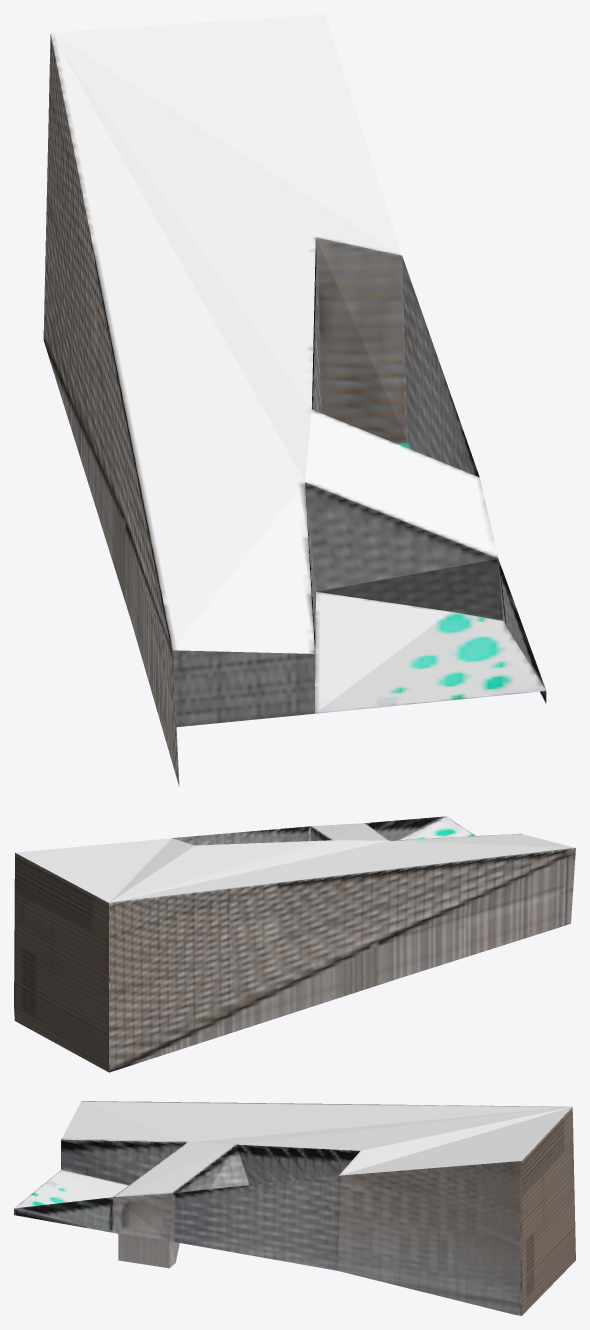
File: 403officesnew.glb
The picture shows the model from 3 angles, top to bottom: view 1: azimuth 30°, elevation 25°; view 2: azimuth 150°, elevation 25°; view 3: azimuth 270°, elevation 25°; orthographic projection. The views are drawn at different scales.
Visible parts, largest first — view 1: 403offices.001; view 2: 403offices.001; view 3: 403offices.001.
Boxes of the visible parts, x1,y1,x2,y2 form: 403offices.001: (43,14,546,786); 403offices.001: (14,816,575,1072); 403offices.001: (14,1101,575,1315).
Bounding box in the file's own units: 53.32 × 26.67 × 87.32.
1 material, 1 textured.
